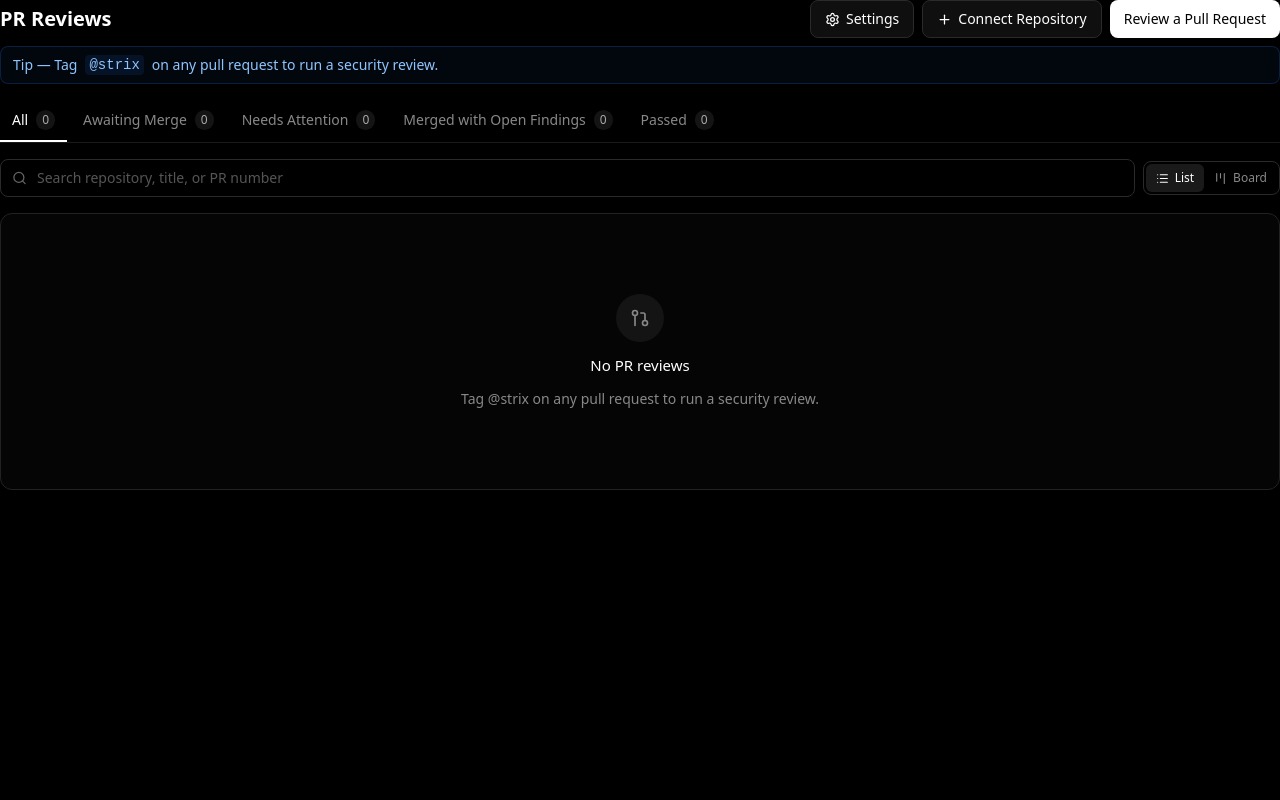
Scenario: PRReviewsList › trigger review modal › filters the repository list by search, and lets you change the selection
This screenshot has width=1280, height=800.
Click the button "Review a Pull Request": (1195, 19) x1=1110 y1=0 x2=1279 y2=38
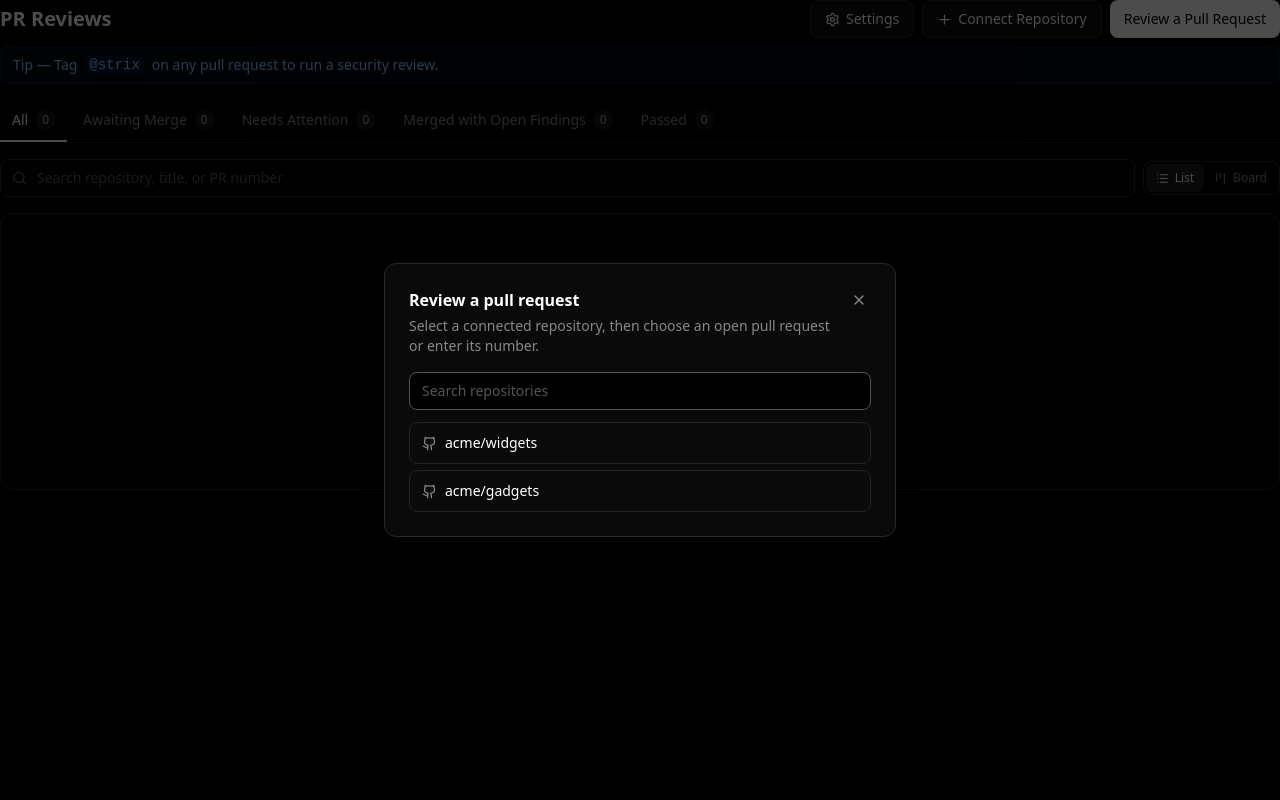
Check: the button "acme/gadgets" is shown, box x1=409 y1=470 x2=871 y2=512
In the field with placeholder "Search repositories": (640, 391) x1=409 y1=372 x2=871 y2=410, type "wid"
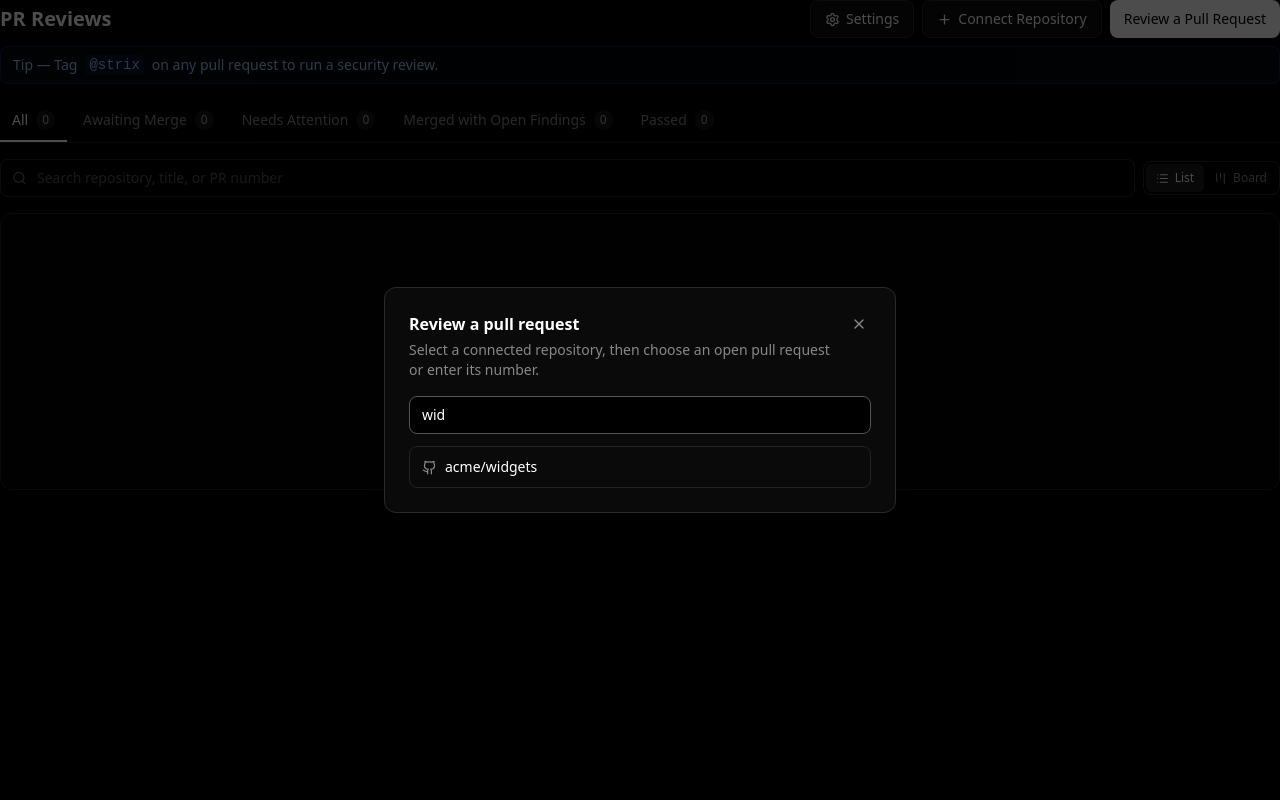
Check: the button "acme/widgets" is shown
Check: the button "acme/gadgets" is gone
Click the button "acme/widgets": (491, 466) x1=409 y1=446 x2=871 y2=488
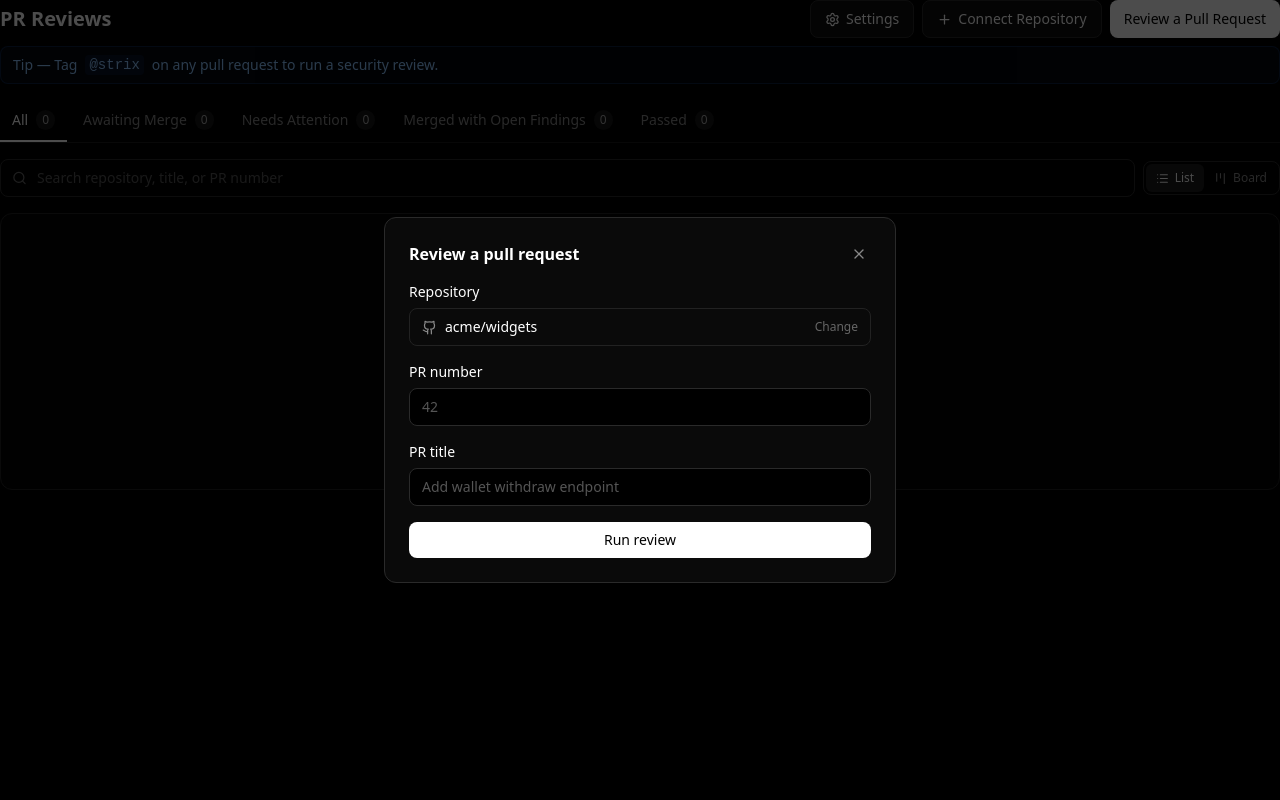
Check: the text "Change" is shown
Click the text "Change": (836, 327) x1=815 y1=319 x2=858 y2=335
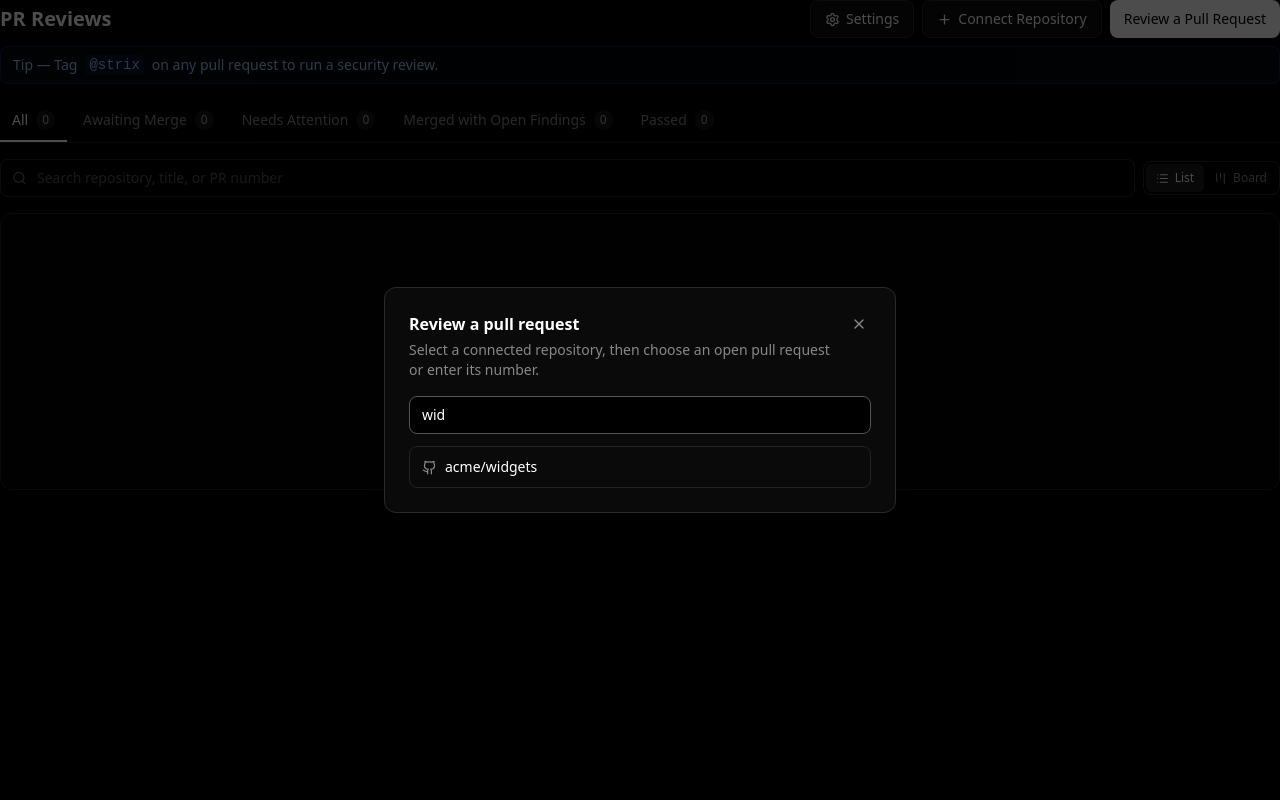
Check: the field with placeholder "Search repositories" is shown, box x1=409 y1=396 x2=871 y2=434
